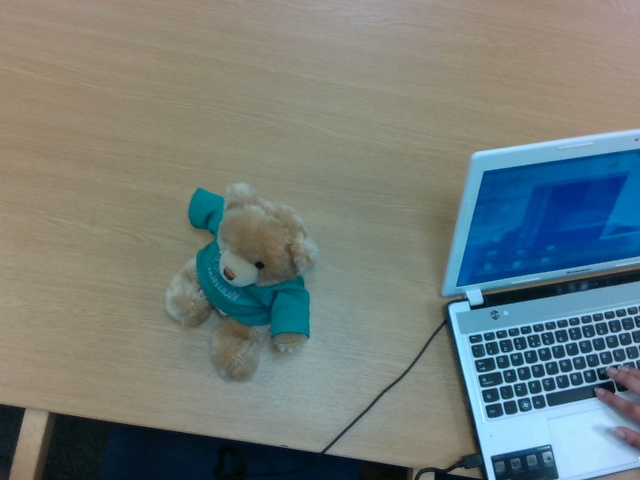teddy: (163, 181, 318, 385)
